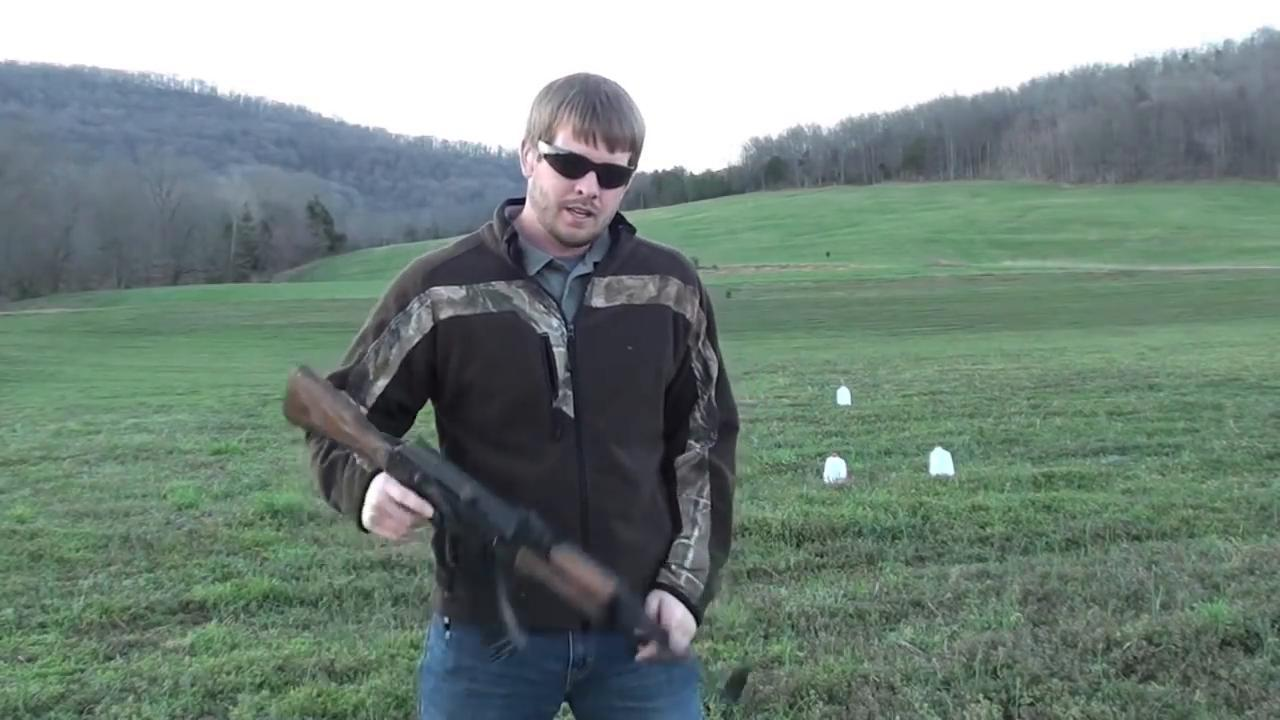AK47 Rifle: (281, 359, 751, 710)
